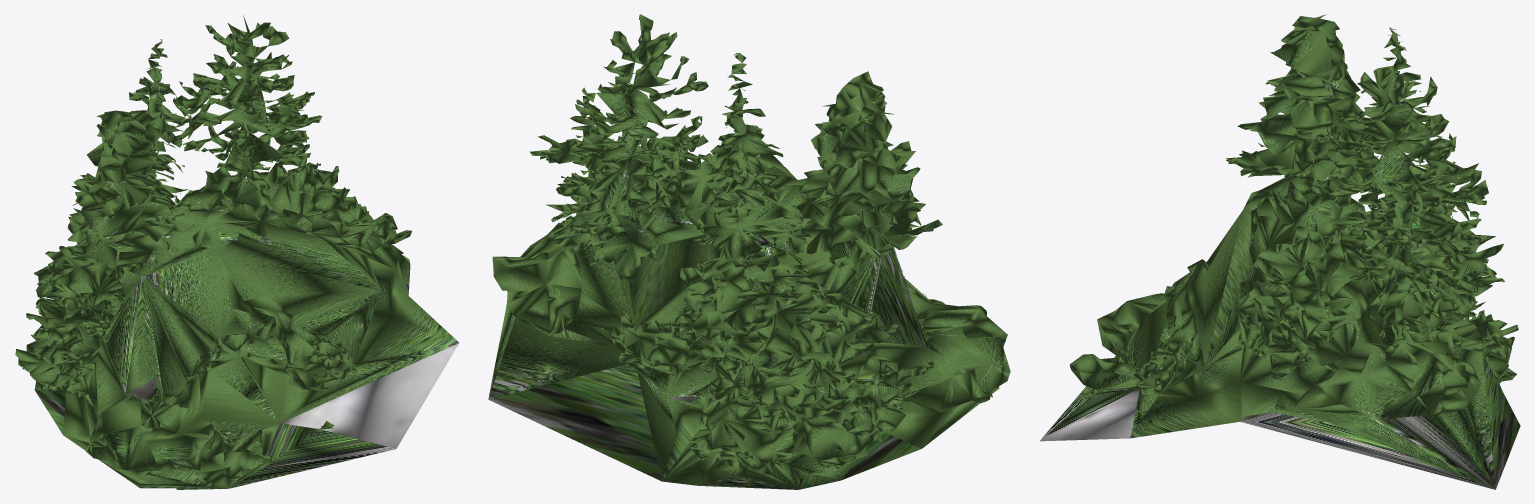
File: Pine_Trees_on_a_Rocky.glb
3 renders of one model, left to right at view 1: azimuth 30°, elevation 25°; view 2: azimuth 150°, elevation 25°; view 3: azimuth 270°, elevation 25°, orthographic. The views are drawn at different scales.
Parts seen in each view (by area): view 1: Pine_Trees_on_a_Rocky; view 2: Pine_Trees_on_a_Rocky; view 3: Pine_Trees_on_a_Rocky.
Boxes of the visible parts, box(x1,y1,x2,y2) form: Pine_Trees_on_a_Rocky: box(15, 15, 459, 489); Pine_Trees_on_a_Rocky: box(488, 14, 1010, 489); Pine_Trees_on_a_Rocky: box(1040, 14, 1520, 489).
Bounding box in the file's own units: 1.82 × 1.7 × 1.86.
1 material, 1 textured.
